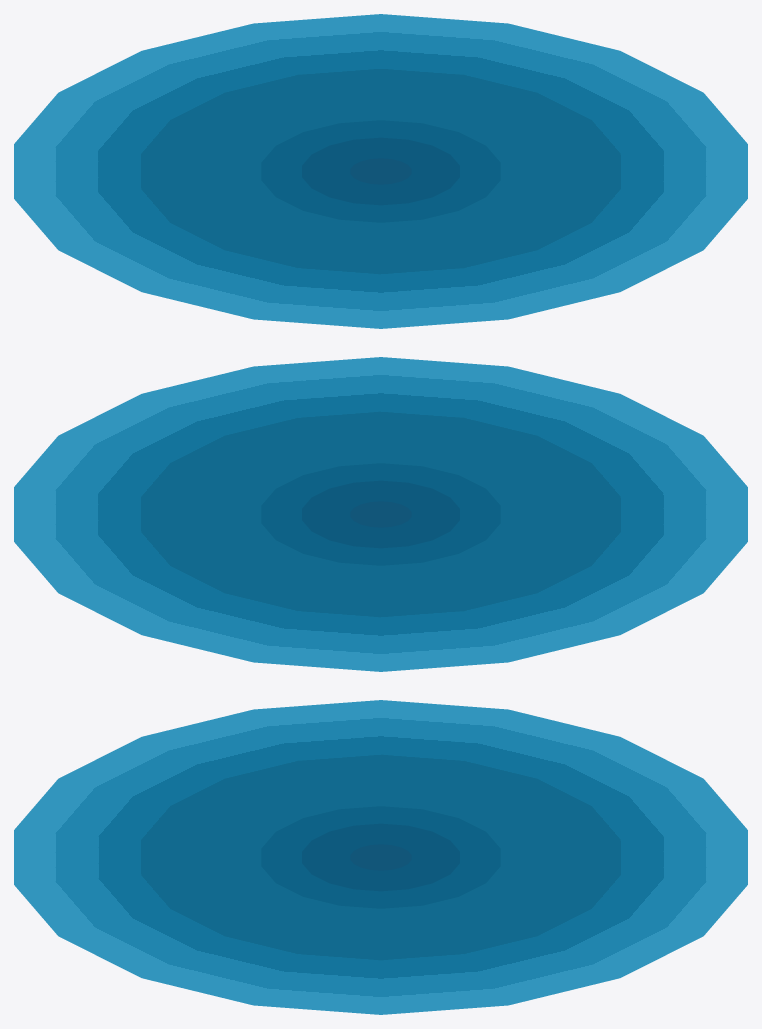
Rendered from kd_stage_1366d7_22_1_bounded.glb.
3 views of the same model, one above another, from view 1: azimuth 30°, elevation 25°; view 2: azimuth 150°, elevation 25°; view 3: azimuth 270°, elevation 25° (orthographic).
Visible parts, largest first — view 1: kd_stage_1366d7_22_1_bounded; view 2: kd_stage_1366d7_22_1_bounded; view 3: kd_stage_1366d7_22_1_bounded.
Boxes of the visible parts, bbox=[...] form: kd_stage_1366d7_22_1_bounded: bbox=[14, 14, 747, 328]; kd_stage_1366d7_22_1_bounded: bbox=[14, 357, 747, 671]; kd_stage_1366d7_22_1_bounded: bbox=[14, 700, 747, 1014].
Bounding box in the file's own units: 25601 × 0.000902 × 25212.
Materials: 1 (1 with a texture image).
